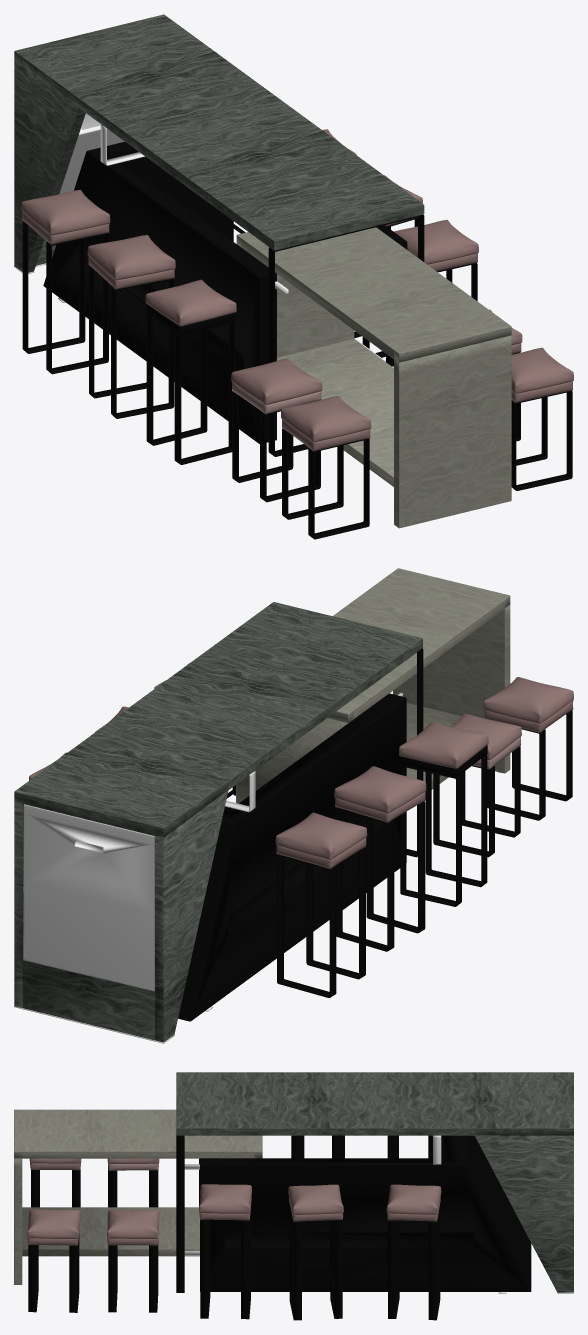
Rendered from Project Name.gltf.
3 renders of one model, top to bottom at view 1: azimuth 30°, elevation 25°; view 2: azimuth 150°, elevation 25°; view 3: azimuth 270°, elevation 25°, orthographic. The views are drawn at different scales.
Parts seen in each view (by area): view 1: Box001, table, Box011, Box058, Box034, Box030, Box054, Box062, Box060, Box061, Box045, Box038 (+16 smaller); view 2: Box001, Box011, Cylinder009, table, Box062, Box054, Box030, Box058, Box057, Box064, Box065, Box056 (+12 smaller); view 3: Box001, Box011, table, Box050, Box045, Box046, Box038, Box026, Box006, Box048, Box053, Box049 (+19 smaller).
Part boxes in pixels (box(x1,y1,x2,y2)): Box001: box(14, 14, 424, 272); table: box(236, 227, 511, 528); Box011: box(43, 141, 407, 443); Box058: box(145, 279, 236, 326); Box034: box(231, 358, 322, 404); Box030: box(281, 396, 371, 442); Box054: box(21, 189, 110, 235); Box062: box(87, 235, 175, 280); Box060: box(174, 322, 235, 464); Box061: box(146, 313, 207, 445); Box045: box(393, 219, 478, 264); Box038: box(511, 347, 573, 393); Box001: box(14, 602, 422, 1042); Box011: box(178, 693, 406, 1021); Cylinder009: box(23, 804, 154, 991); table: box(236, 568, 510, 803); Box062: box(334, 766, 426, 813); Box054: box(275, 812, 367, 859); Box030: box(483, 677, 573, 723); Box058: box(399, 722, 488, 768); Box057: box(277, 854, 336, 997); Box064: box(366, 801, 425, 933); Box065: box(335, 807, 394, 951); Box056: box(306, 847, 365, 979); Box001: box(176, 1072, 573, 1292); Box011: box(200, 1135, 531, 1291); table: box(14, 1109, 262, 1284); Box050: box(386, 1184, 441, 1214); Box045: box(199, 1184, 251, 1213); Box046: box(288, 1184, 343, 1214); Box038: box(27, 1209, 80, 1238); Box026: box(107, 1209, 159, 1238); Box006: box(176, 1135, 184, 1292); Box048: box(289, 1205, 301, 1320); Box053: box(428, 1204, 440, 1320); Box049: box(330, 1220, 342, 1318).
Size of what is drawn, in the model's own units: 0.1649 by 0.11 by 0.3379.
Materials: 52 (2 with a texture image).
